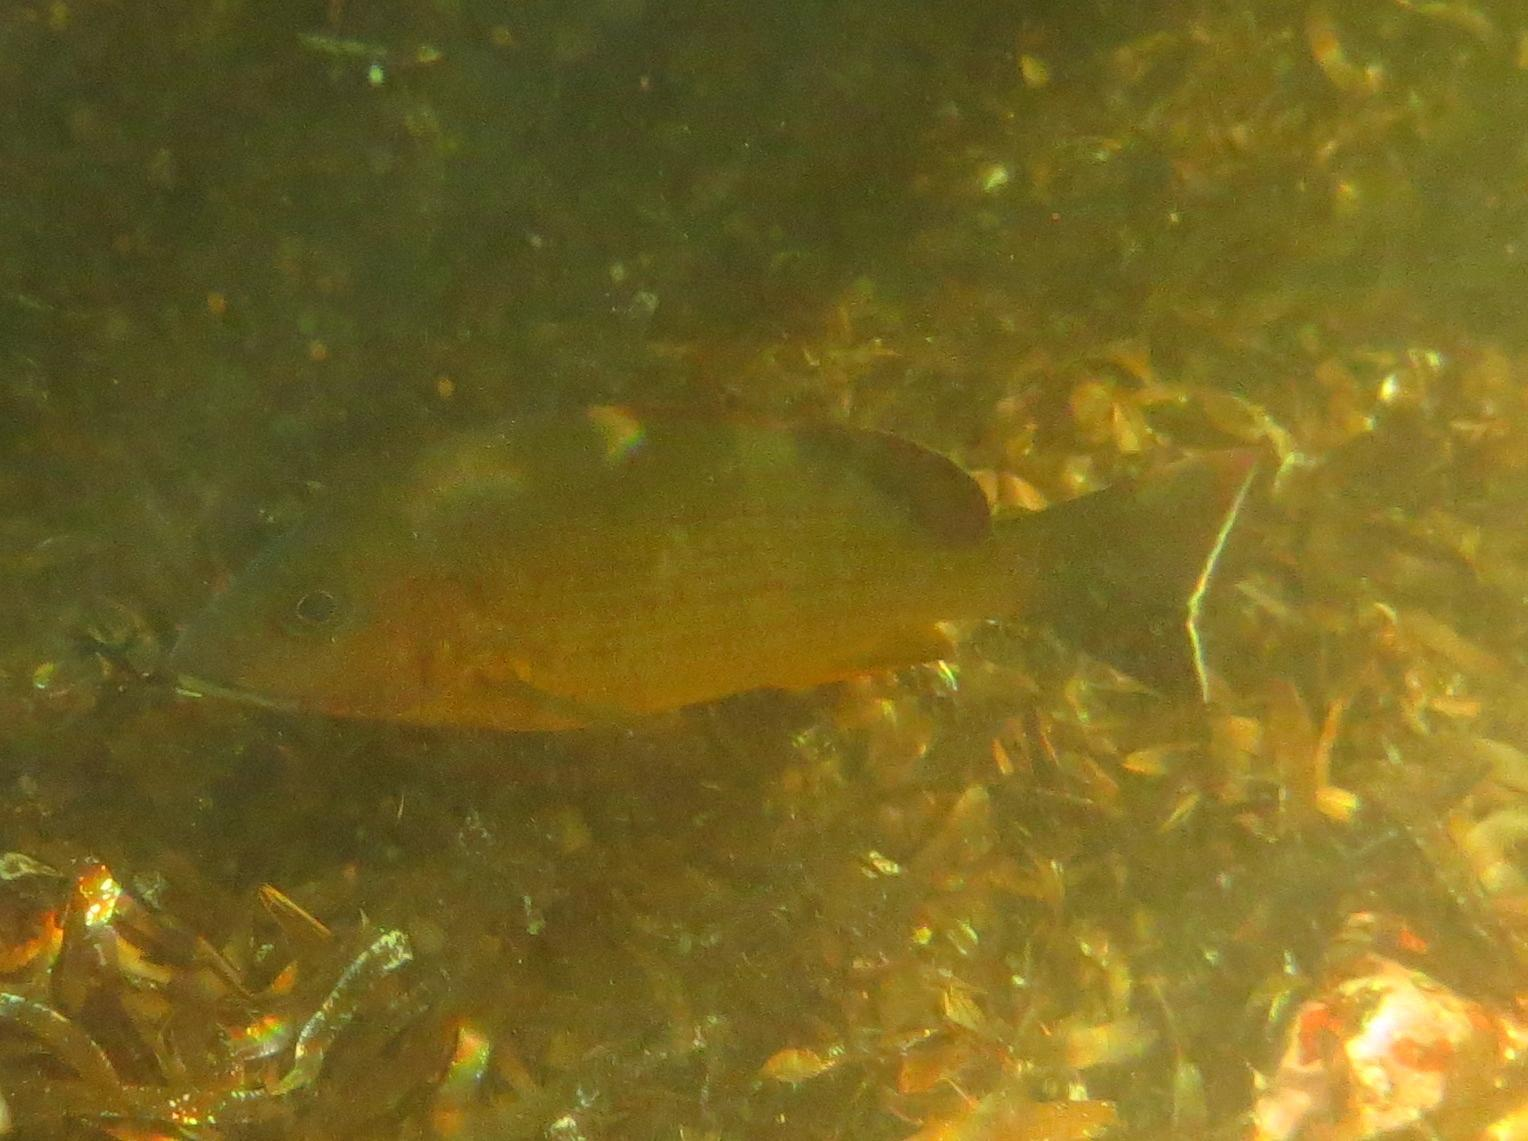Fish: (147, 398, 1280, 751)
